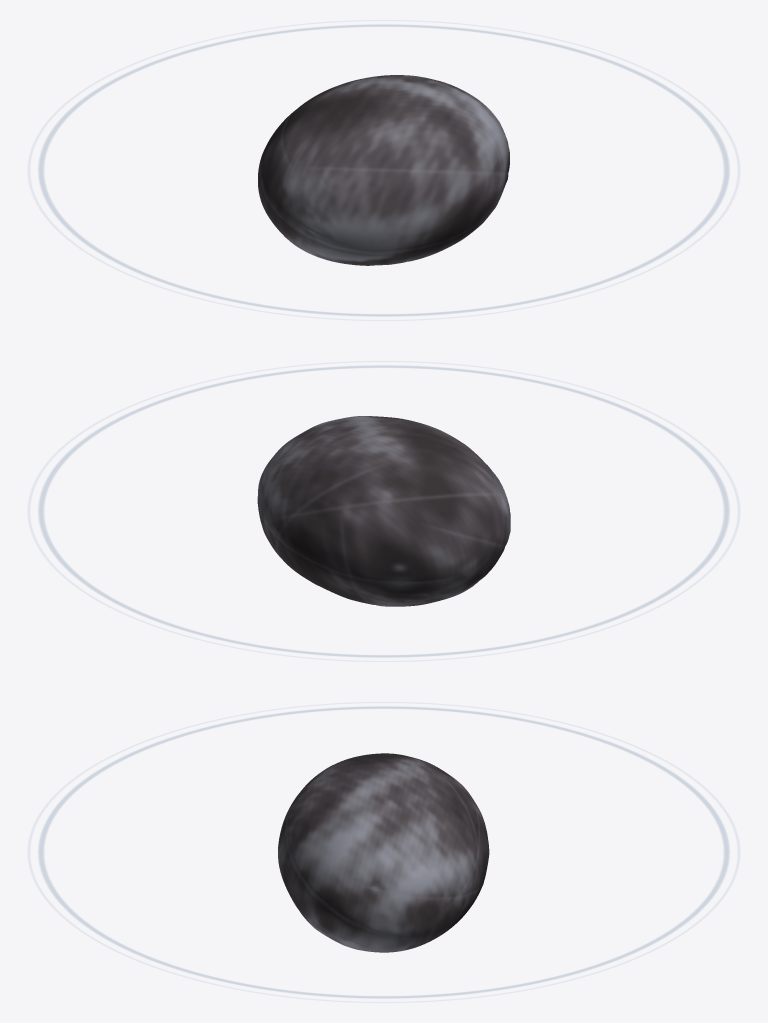
The model's file is chariklo.glb.
3 views of the same model, one above another, from view 1: azimuth 30°, elevation 25°; view 2: azimuth 150°, elevation 25°; view 3: azimuth 270°, elevation 25° (orthographic).
Parts seen in each view (by area): view 1: chariklo_body, chariklo_rings; view 2: chariklo_body, chariklo_rings; view 3: chariklo_body, chariklo_rings.
Part boxes in pixels (box(x1,y1,x2,y2)): chariklo_body: box(258, 75, 509, 265); chariklo_rings: box(27, 20, 740, 320); chariklo_body: box(257, 416, 510, 606); chariklo_rings: box(27, 361, 740, 661); chariklo_body: box(278, 753, 489, 952); chariklo_rings: box(27, 702, 740, 1002).
Bounding box in the file's own units: 5.59 × 1.38 × 5.59.
Materials: 2 (2 with a texture image).
